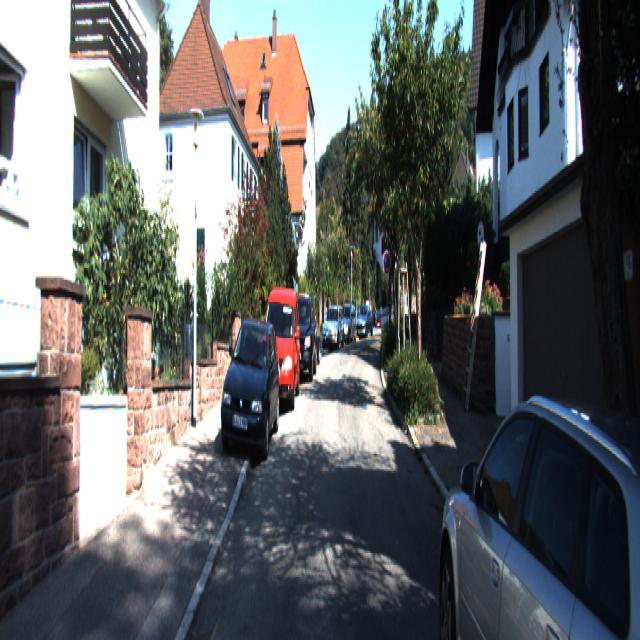Car: (436, 357, 640, 638), (219, 310, 280, 468), (258, 282, 302, 414), (286, 289, 318, 385), (322, 306, 345, 354)
